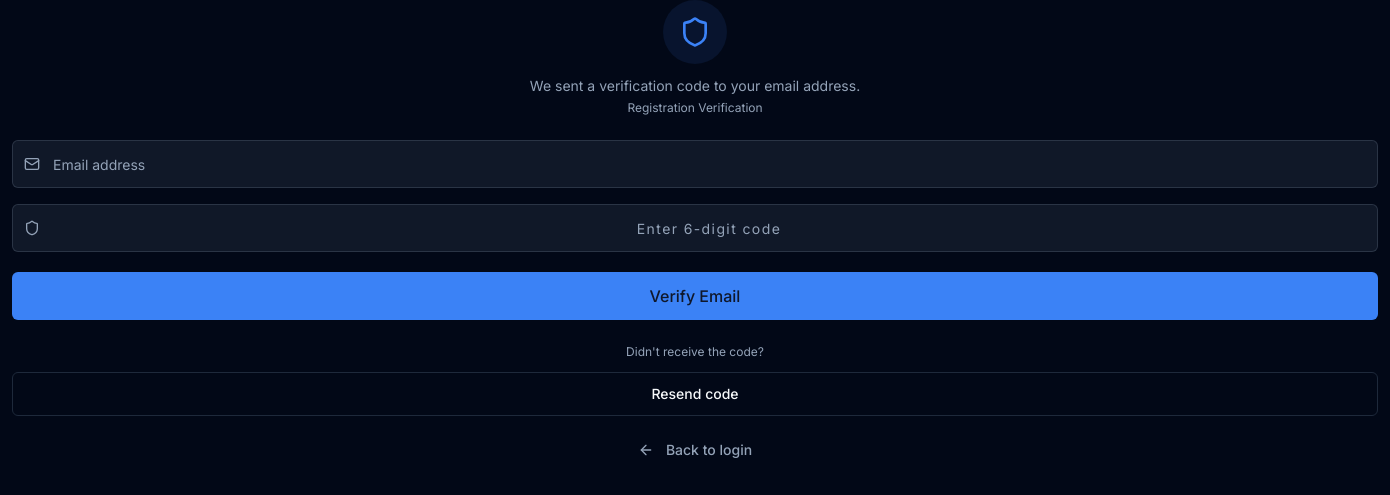
Test: VerifyForm › validates the email before resending a code
The image size is (1390, 495).
Click the button "Resend code". click: (695, 394)
box: [12,372,1378,416]
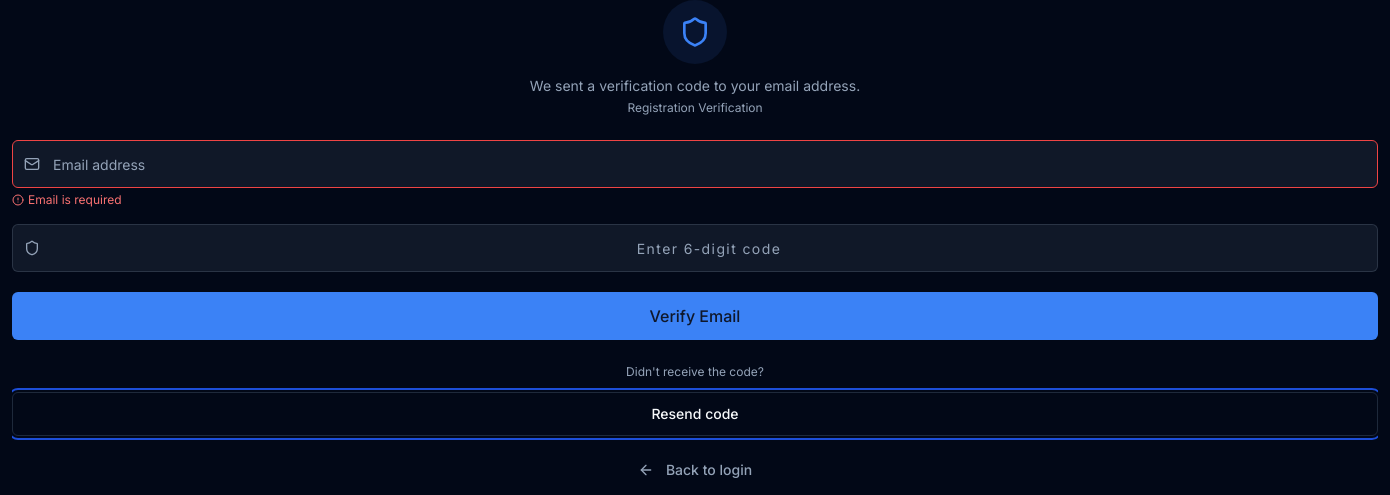
Check: the text "Email is required" is shown, box [28,192,122,208]
